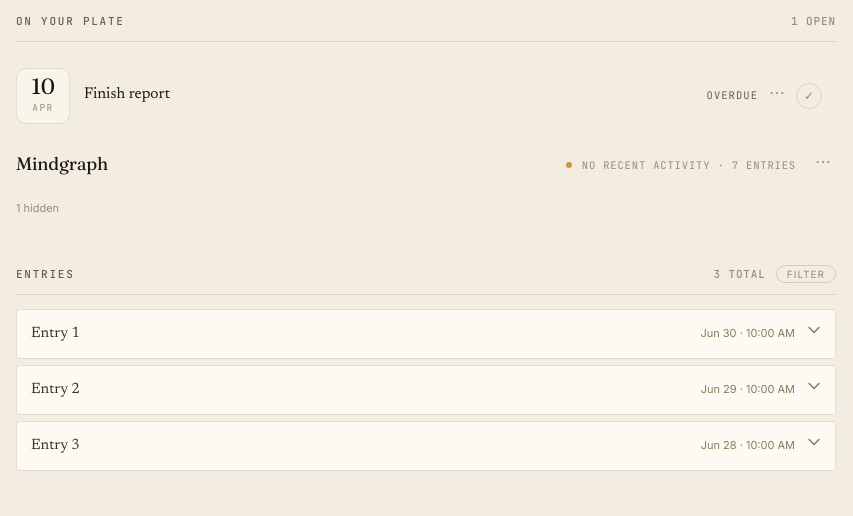
it: Journal single-page life view › filter chips are collapsed behind one Filter control
This screenshot has width=853, height=516.
Expected: the text "Entry 1" is shown, [31, 326, 80, 341]
Step 1. Click the button "Filter" → (806, 274), box [776, 265, 836, 283]
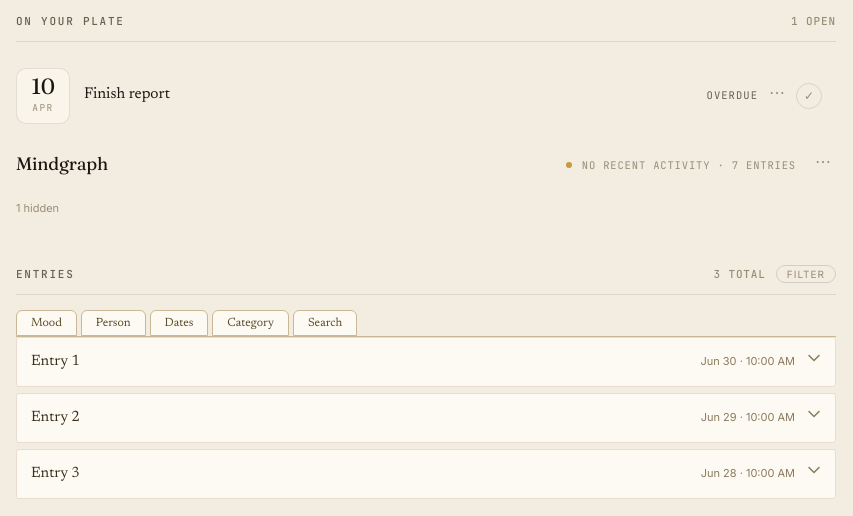
Expected: the element with class "entries-filter-row" is shown, [16, 310, 357, 336]
Expected: the button "Mood" is shown, [16, 310, 77, 336]
Step 2. Click the button "Filter" → (806, 274), box [776, 265, 836, 283]
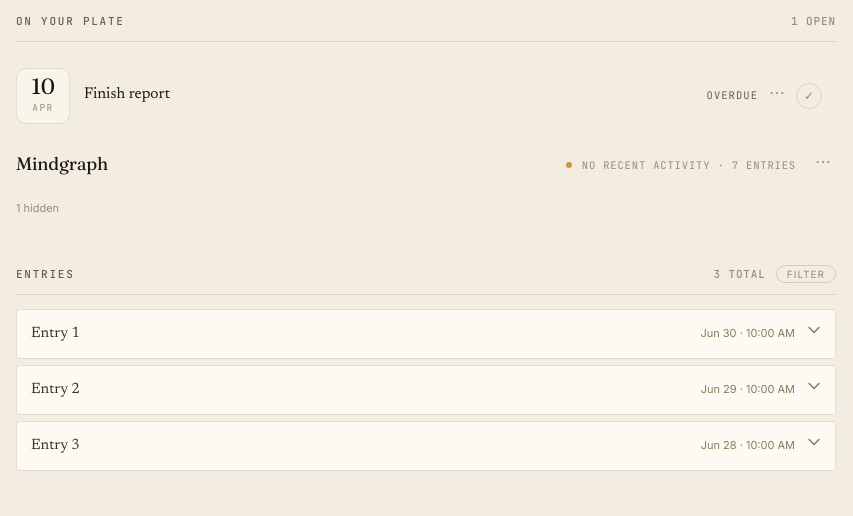
Expected: the element with class "entries-filter-row" is gone
